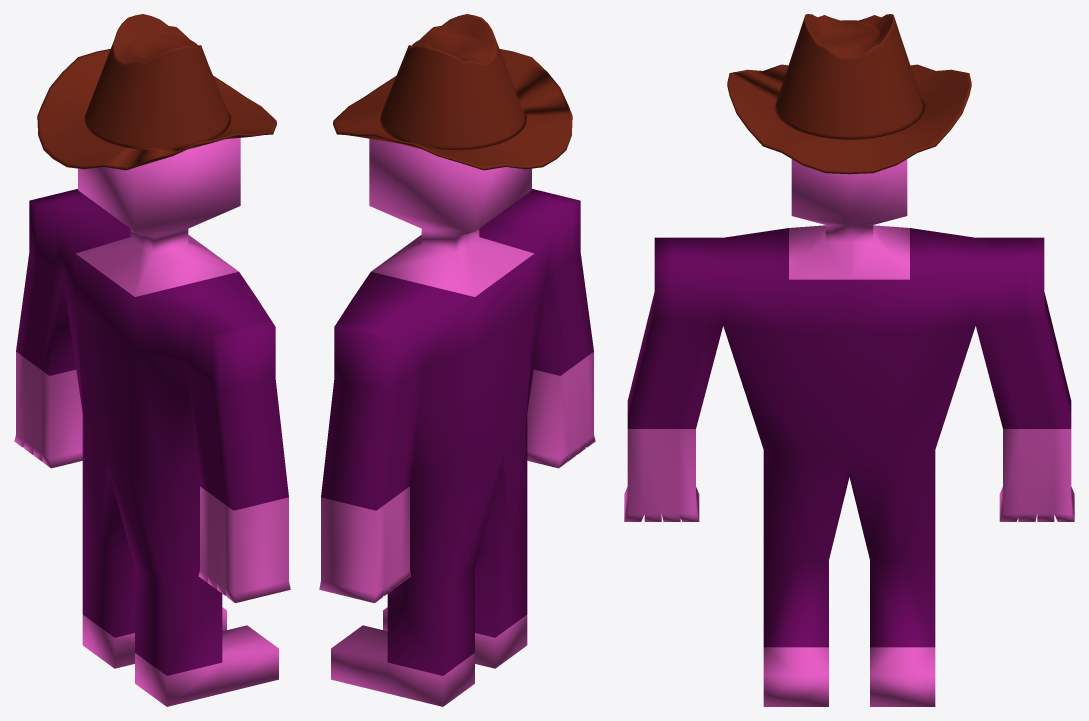
The model's file is CowboyFisher.fbx.
The picture shows the model from 3 angles, left to right: view 1: azimuth 30°, elevation 25°; view 2: azimuth 150°, elevation 25°; view 3: azimuth 270°, elevation 25°; orthographic projection.
Parts seen in each view (by area): view 1: Cowboy, Circle; view 2: Cowboy, Circle; view 3: Cowboy, Circle.
Part boxes in pixels (bbox=[...]): Cowboy: bbox=[14, 138, 290, 706]; Circle: bbox=[37, 14, 276, 170]; Cowboy: bbox=[319, 138, 595, 706]; Circle: bbox=[333, 14, 572, 170]; Cowboy: bbox=[624, 159, 1074, 706]; Circle: bbox=[727, 14, 971, 174].
Size of the model in its own units: 0.5363 by 1.57 by 0.9878.
